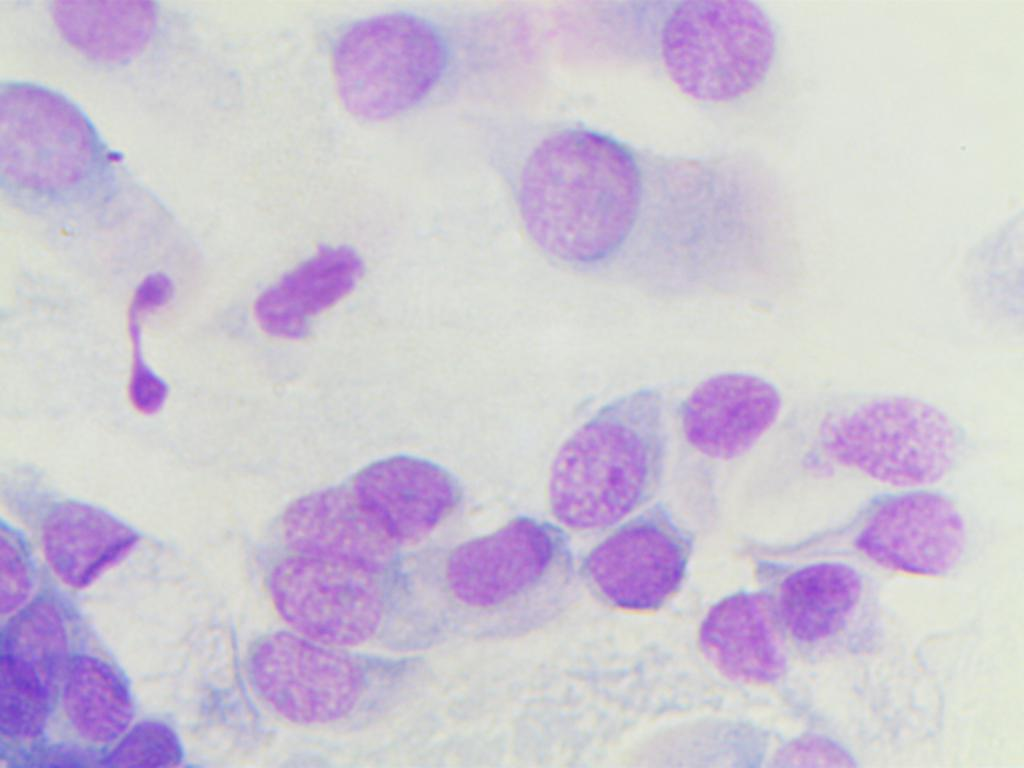artifact: (246, 232, 369, 356), (128, 269, 189, 428)
epithelial: (478, 109, 815, 304), (4, 76, 210, 323), (313, 6, 557, 118), (543, 0, 787, 100), (226, 630, 441, 737), (784, 374, 981, 480), (549, 375, 679, 525), (679, 362, 783, 526), (256, 477, 413, 579), (854, 482, 982, 599), (52, 0, 260, 70), (354, 433, 460, 546), (261, 557, 392, 646), (438, 514, 566, 603), (783, 550, 876, 671), (691, 580, 784, 701), (566, 524, 689, 613), (50, 648, 135, 741), (3, 599, 72, 700), (90, 716, 196, 768)
goblet_cell: (9, 459, 192, 621)
